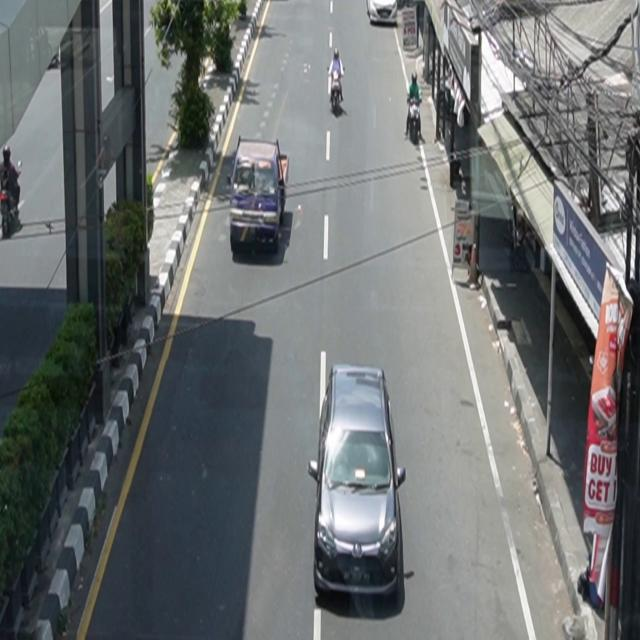car: (309, 364, 407, 602), (228, 136, 290, 254), (366, 1, 398, 26)
